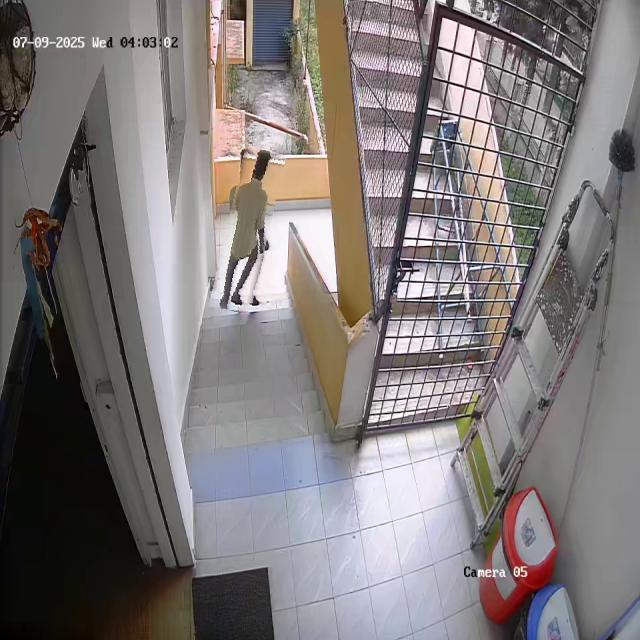person: (218, 148, 278, 314)
